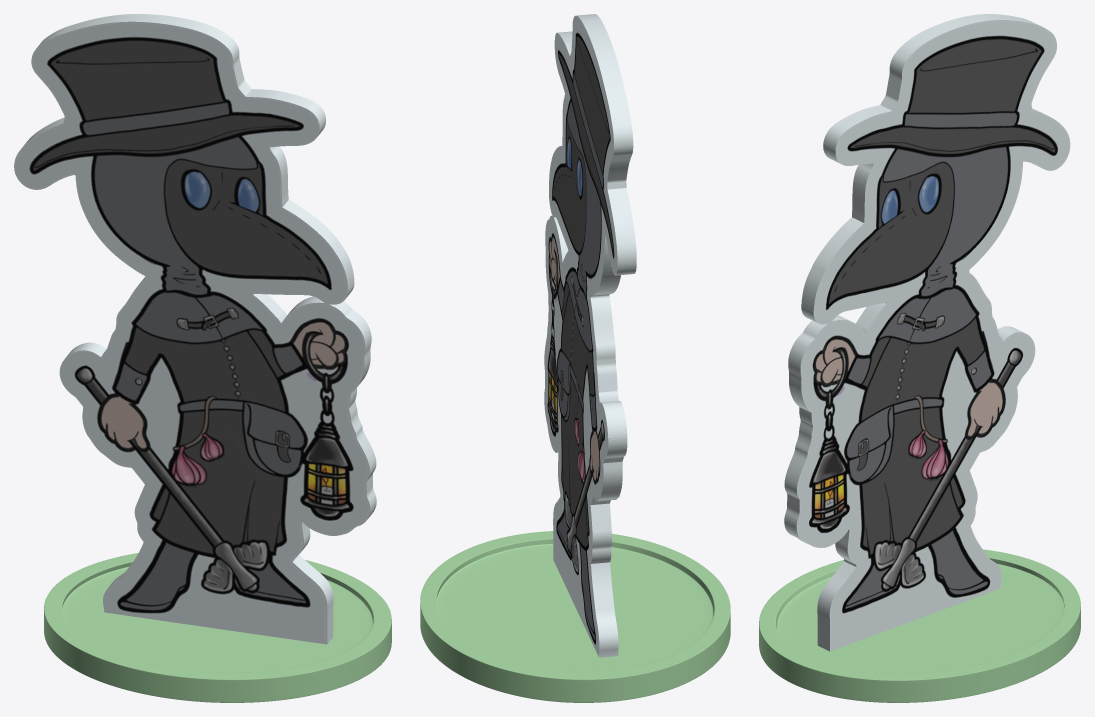
File: mago_player.fbx
3 views of the same model, side by side, from view 1: azimuth 30°, elevation 25°; view 2: azimuth 150°, elevation 25°; view 3: azimuth 270°, elevation 25° (orthographic). The views are drawn at different scales.
Parts seen in each view (by area): view 1: MAGO; view 2: MAGO; view 3: MAGO.
Boxes of the visible parts, x1=… form: MAGO: x1=14, y1=14, x2=391, y2=702; MAGO: x1=420, y1=14, x2=730, y2=702; MAGO: x1=759, y1=14, x2=1080, y2=702.
Size of the model in its own units: 61.32 by 127 by 62.45.
